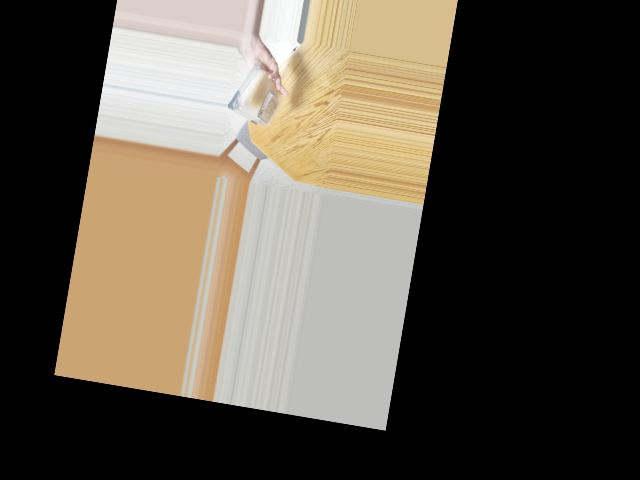cheese: (229, 65, 285, 128)
